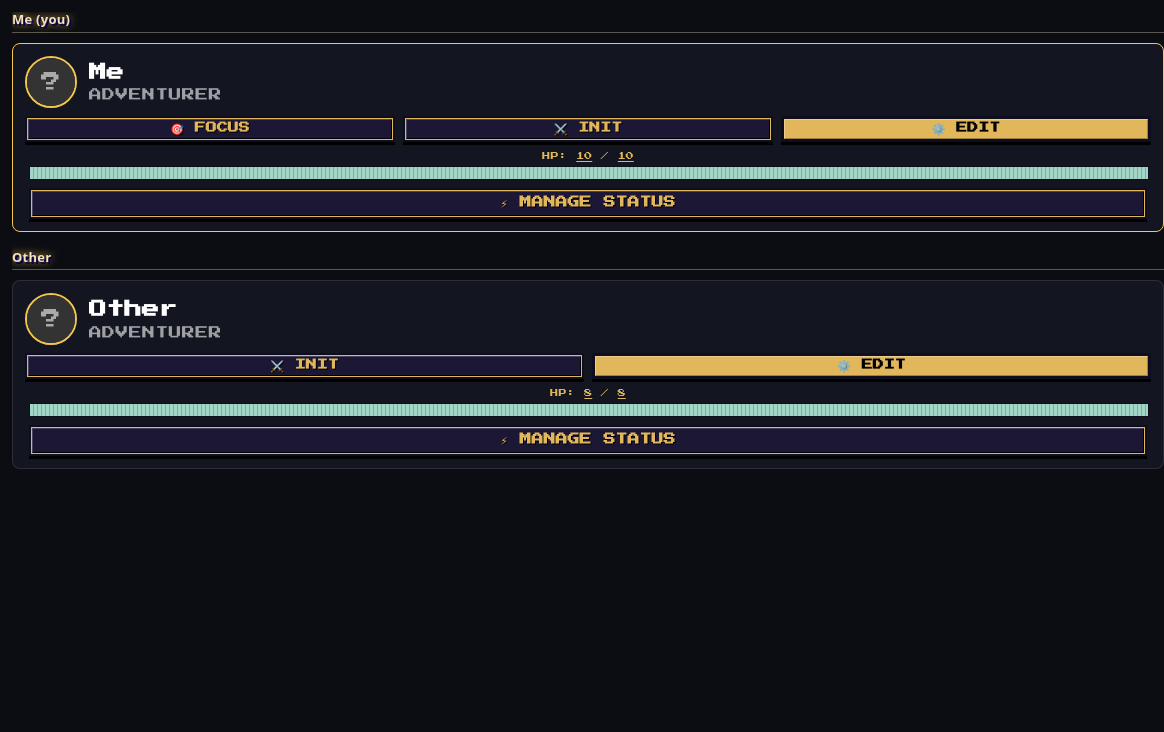
Test: MobileEntitiesList — Save character / Load character on a phone (U9) › a DM has the file control on another player's row
What coordinates should you click on to do the following:
click the 2nd button "⚙️ EDIT"
I would click on:
 (872, 366)
Its box is [592,353,1151,379].
(page scrolled)
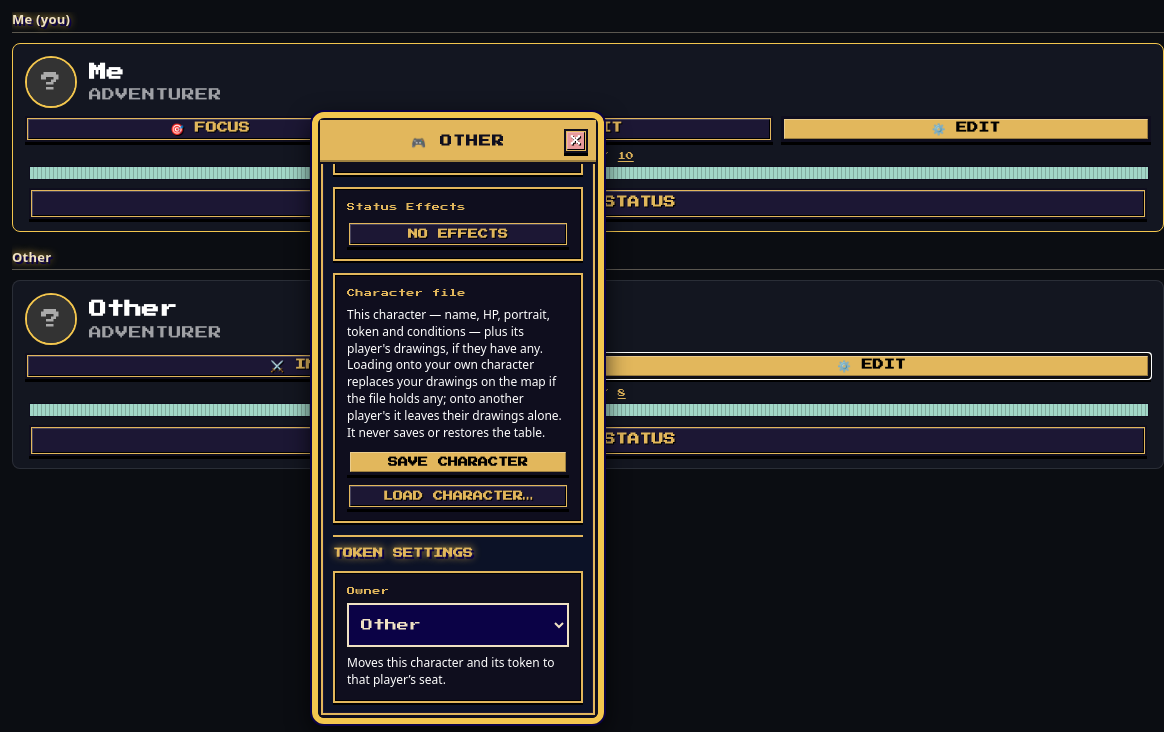
Check: the button "Save character" is shown, box [347,449,569,475]
